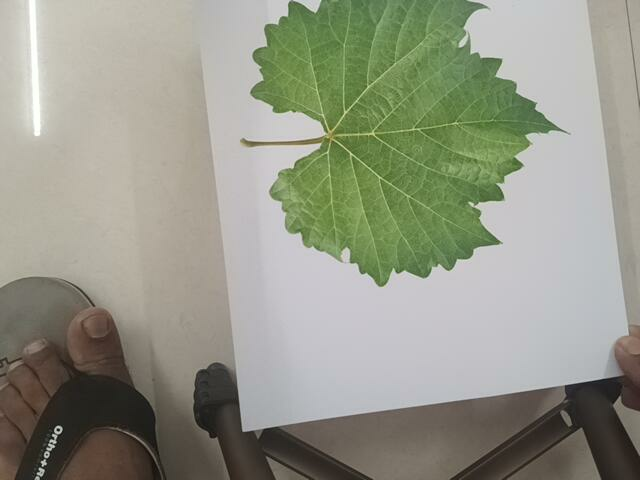Grape_Healthy: (224, 1, 571, 284)
